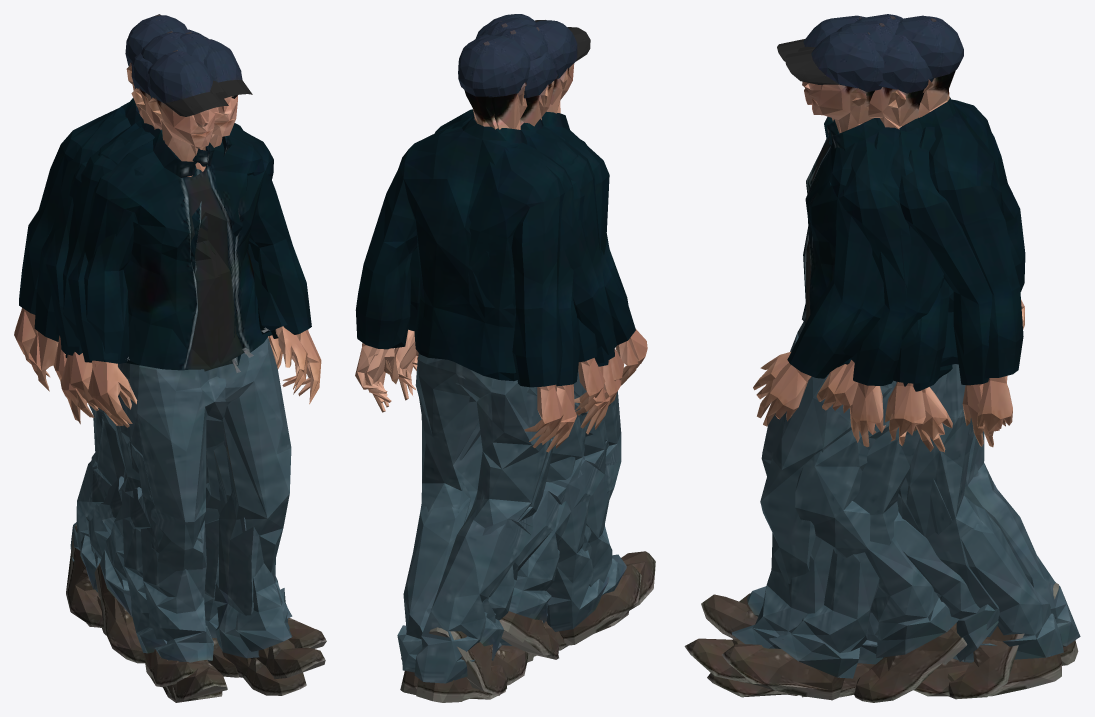
File: walk-tyrone.glb
The picture shows the model from 3 angles, left to right: view 1: azimuth 30°, elevation 25°; view 2: azimuth 150°, elevation 25°; view 3: azimuth 270°, elevation 25°; orthographic projection. The views are drawn at different scales.
Parts seen in each view (by area): view 1: f7, f3, f6, f2, f5, f4, f1, f0; view 2: f5, f1, f2, f6, f4, f3, f7, f0; view 3: f1, f3, f2, f0, f7, f5, f6, f4.
Part boxes in pixels (left/top/right/bottom): f7: left=60, top=50, right=321, bottom=702; f3: left=66, top=38, right=306, bottom=695; f6: left=29, top=53, right=307, bottom=701; f2: left=68, top=29, right=325, bottom=678; f5: left=14, top=19, right=282, bottom=687; f4: left=54, top=32, right=239, bottom=677; f1: left=45, top=14, right=326, bottom=648; f0: left=60, top=31, right=234, bottom=473; f5: left=415, top=37, right=641, bottom=645; f1: left=355, top=35, right=623, bottom=700; f2: left=365, top=34, right=647, bottom=702; f6: left=397, top=52, right=655, bottom=694; f4: left=441, top=17, right=606, bottom=659; f3: left=394, top=14, right=638, bottom=695; f7: left=401, top=20, right=628, bottom=659; f0: left=394, top=24, right=621, bottom=662; f1: left=722, top=16, right=1023, bottom=700; f3: left=707, top=31, right=1058, bottom=697; f2: left=684, top=34, right=1080, bottom=695; f0: left=795, top=14, right=967, bottom=702; f7: left=733, top=15, right=1024, bottom=699; f5: left=739, top=15, right=1025, bottom=696; f6: left=701, top=256, right=1063, bottom=696; f4: left=797, top=20, right=906, bottom=697.
Bounding box in the file's own units: 0.3582 × 1 × 0.5465.
5 materials, 5 textured.
